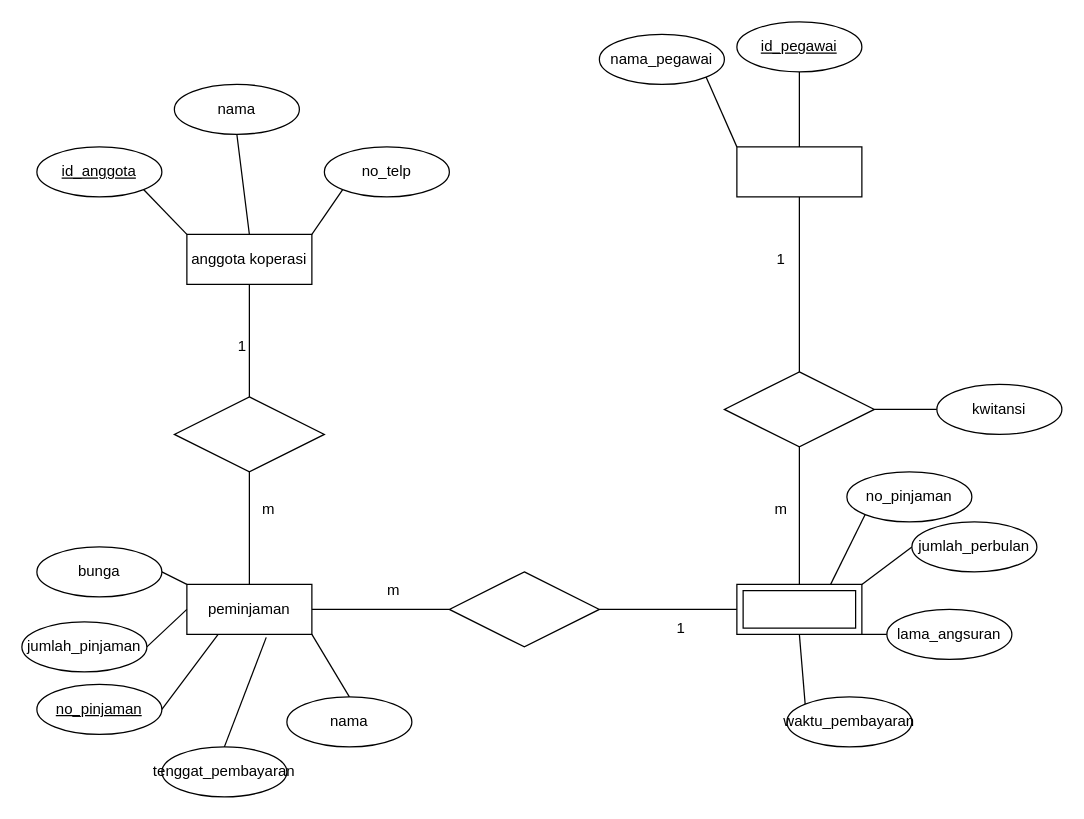
Some shapes in this 1084 by 819 pixel diagram are drawn without their labels. Each missing label, with the centre of its shape:
angsuran: point (799, 608)
melakukan: point (248, 434)
melihat: point (798, 409)
pegawai: point (799, 171)
pembayaran: point (523, 609)
